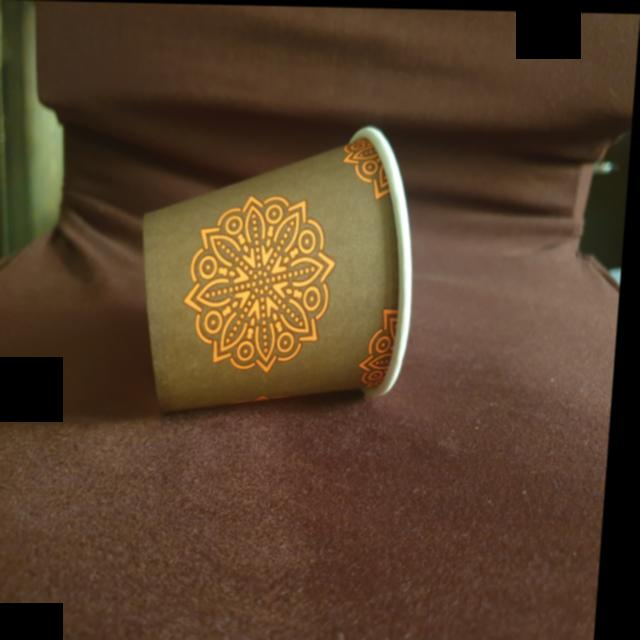cups: (132, 114, 433, 425)
